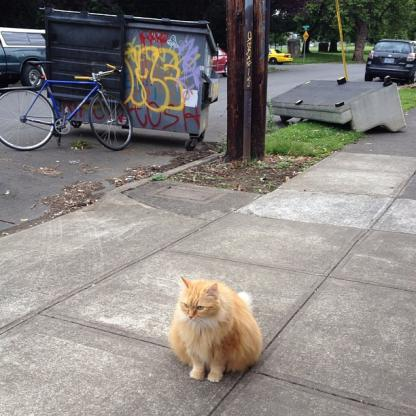Target: (162, 273, 265, 382)
